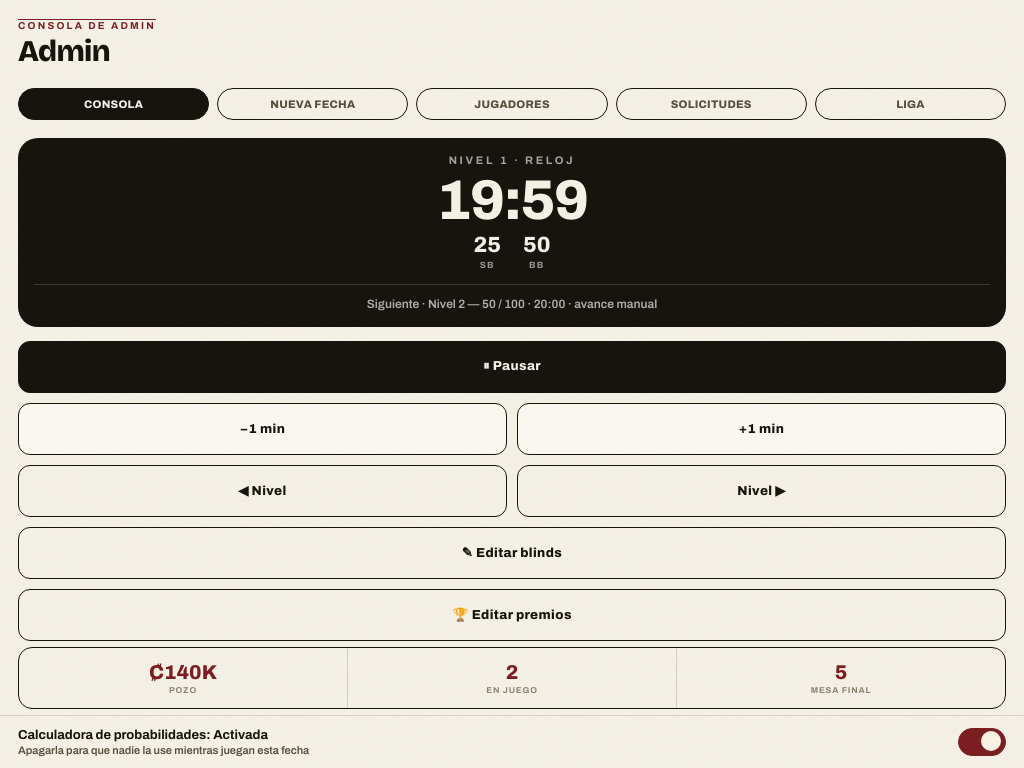
Test: Admin — Agregar jugador (Phase 3) › surfaces a duplicate-email error (23505) without clearing the form
The image size is (1024, 768).
Click the tab "Jugadores".
click(512, 104)  # box [416,88,608,120]
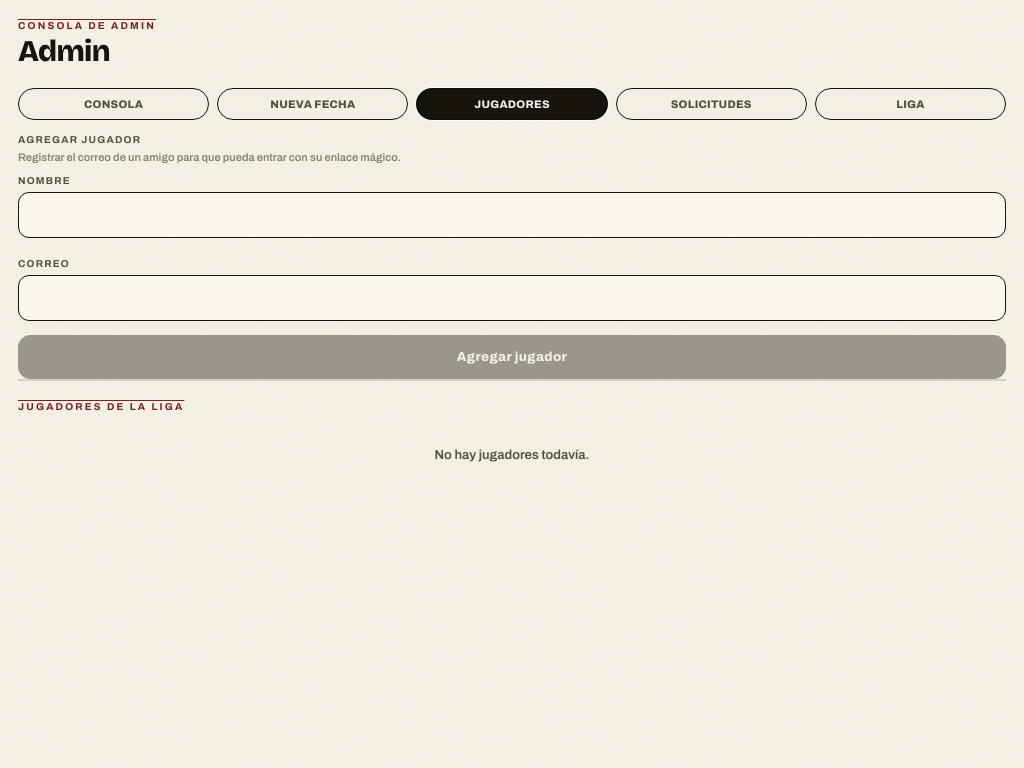
Expected: the element with test id "add-player" is shown, [0,124,1023,379]
Type "Repetido" into the field labelled "Nombre".
click(512, 215); type("Repetido")  # box [18,192,1006,238]
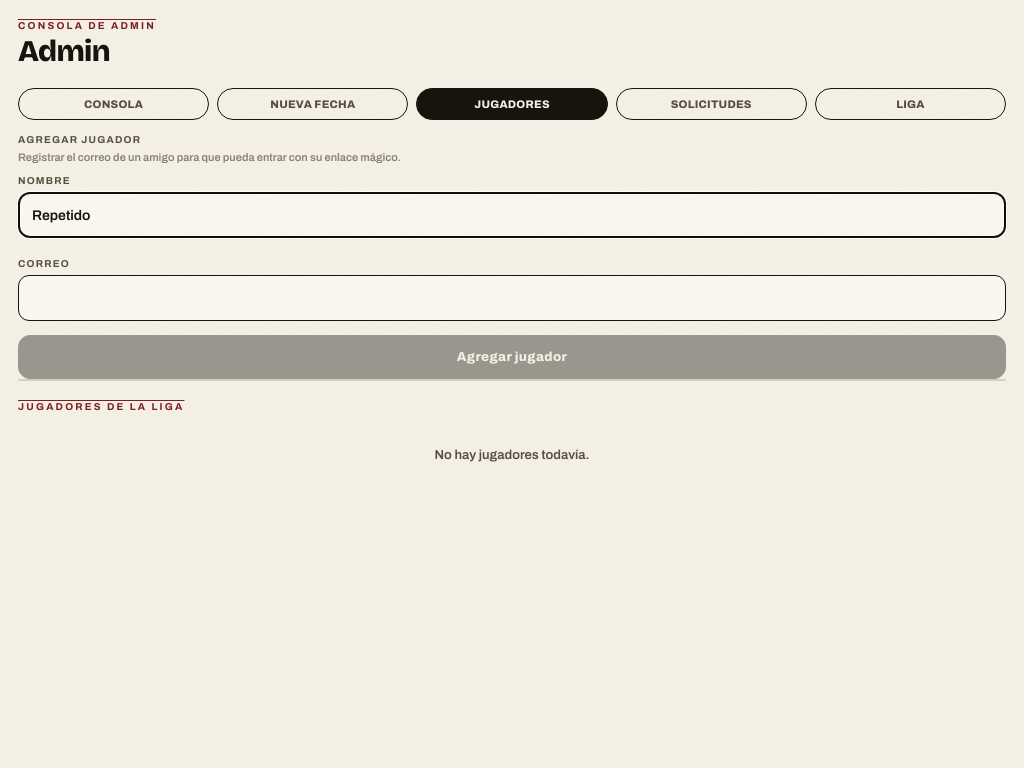
Type "dup@example.com" into the field labelled "Correo".
click(512, 298); type("dup@example.com")  # box [18,275,1006,321]
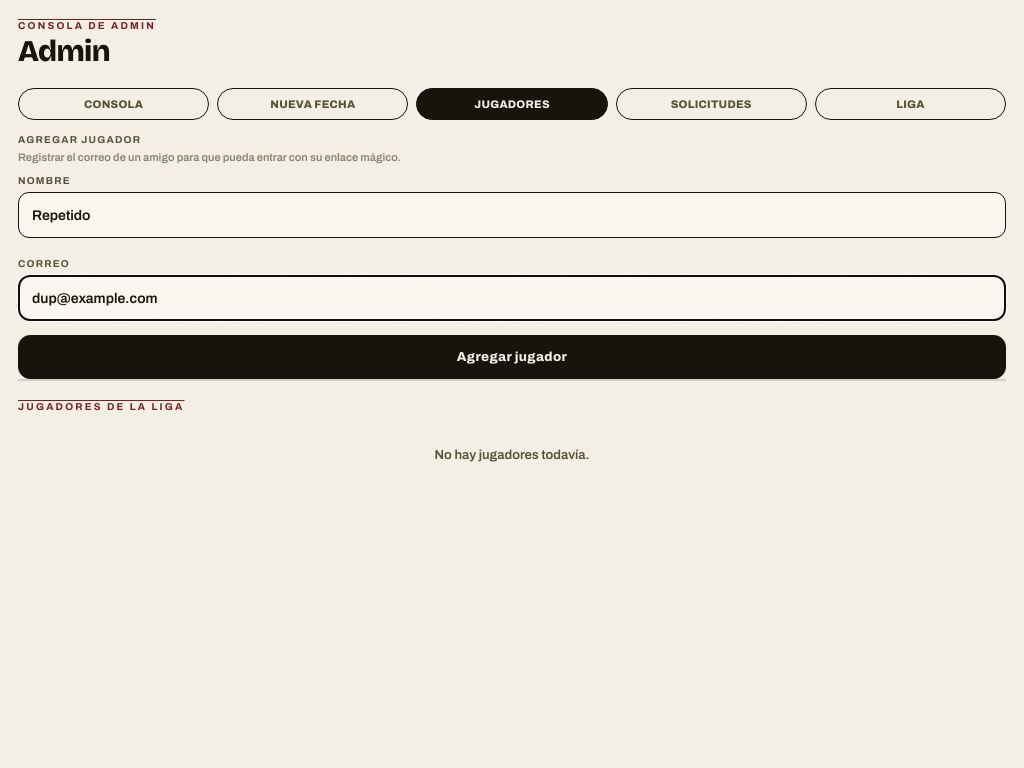
Click the button "Agregar jugador".
click(512, 357)  # box [18,335,1006,379]
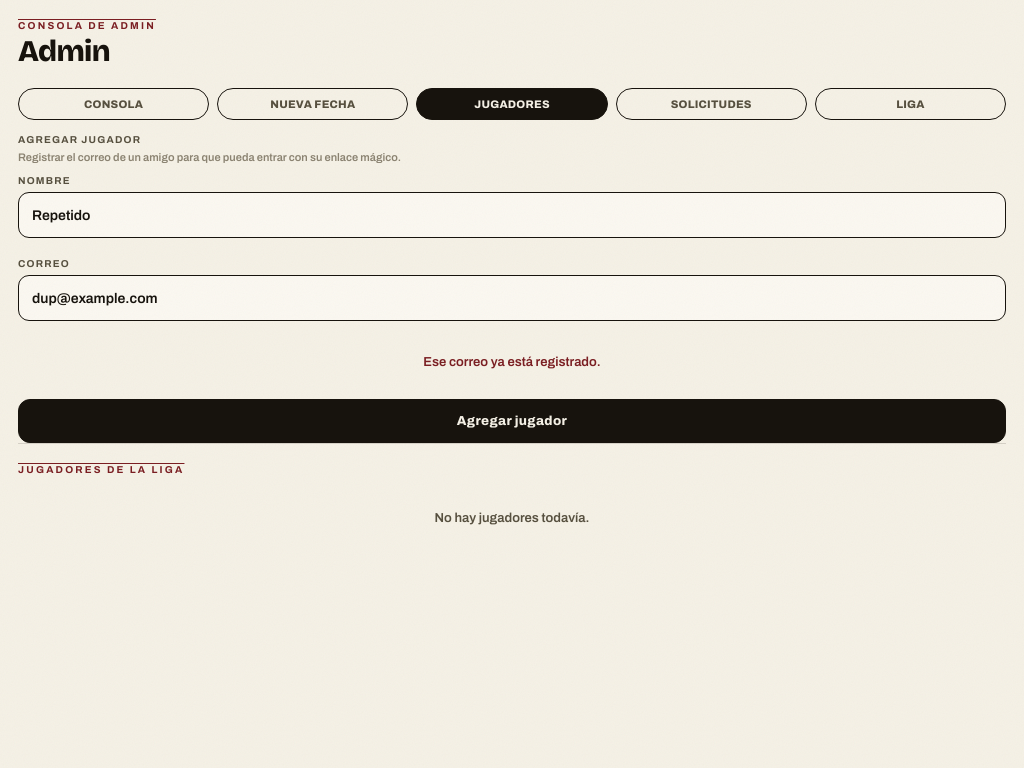
Expected: the message with test id "add-player-error" shows "ya está registrado", [423,355,601,369]
